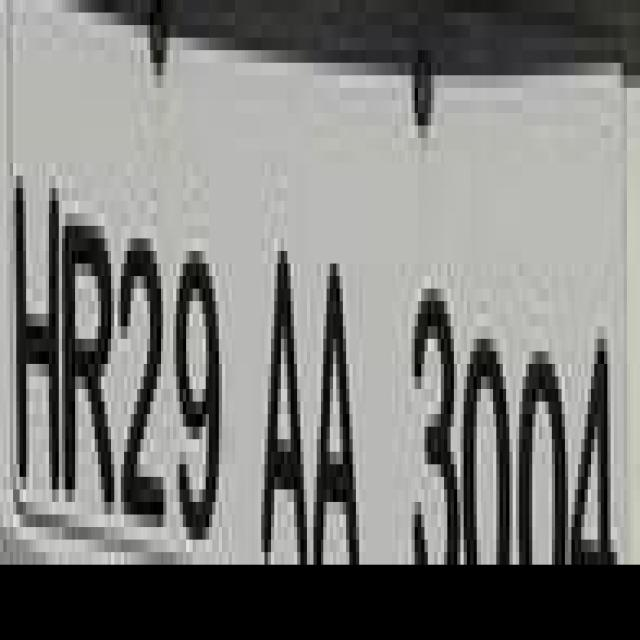license_plate: (0, 12, 617, 602)
